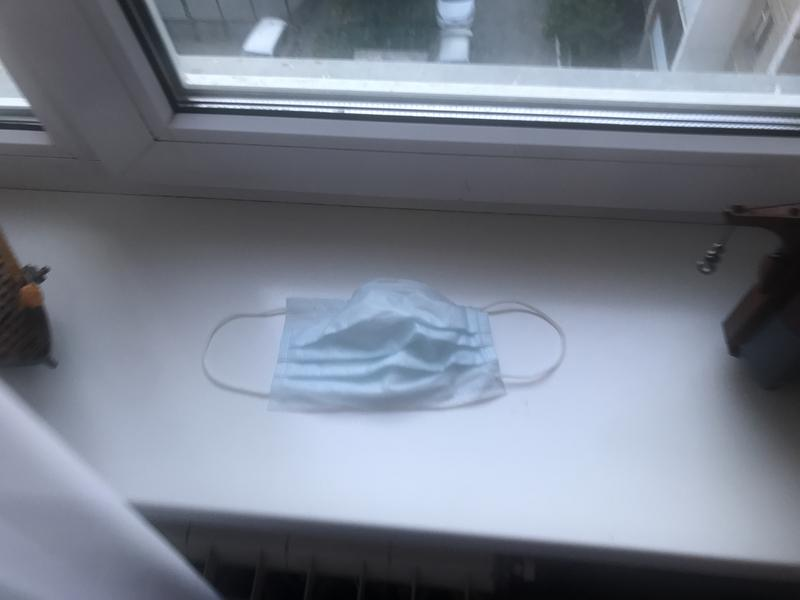medical_mask: (202, 291, 566, 403)
